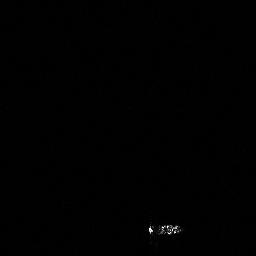ship: (148, 224, 181, 235)
